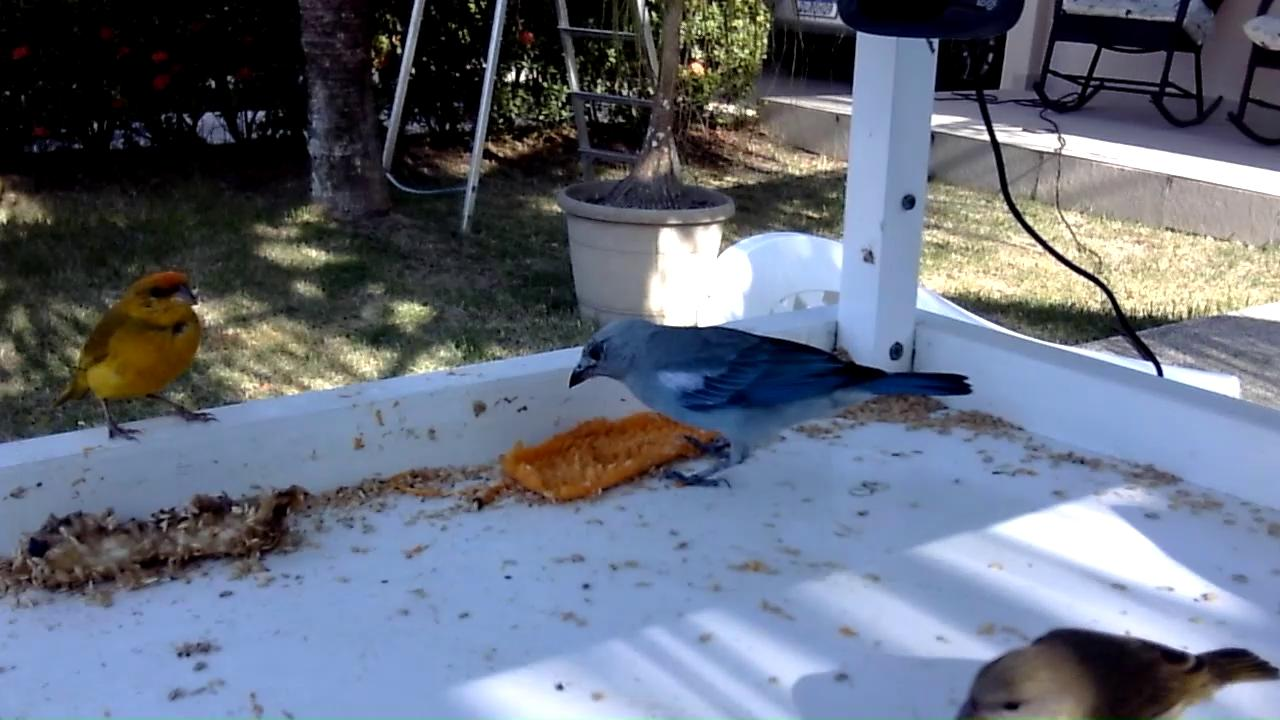canario_do_amazonas: (957, 623, 1280, 720), (51, 269, 225, 448)
sanhaco_da_amazonia: (568, 314, 978, 493)
